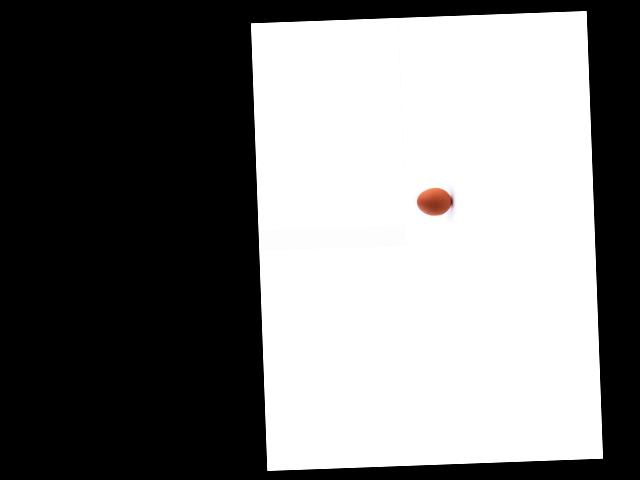egg: (416, 188, 452, 217)
